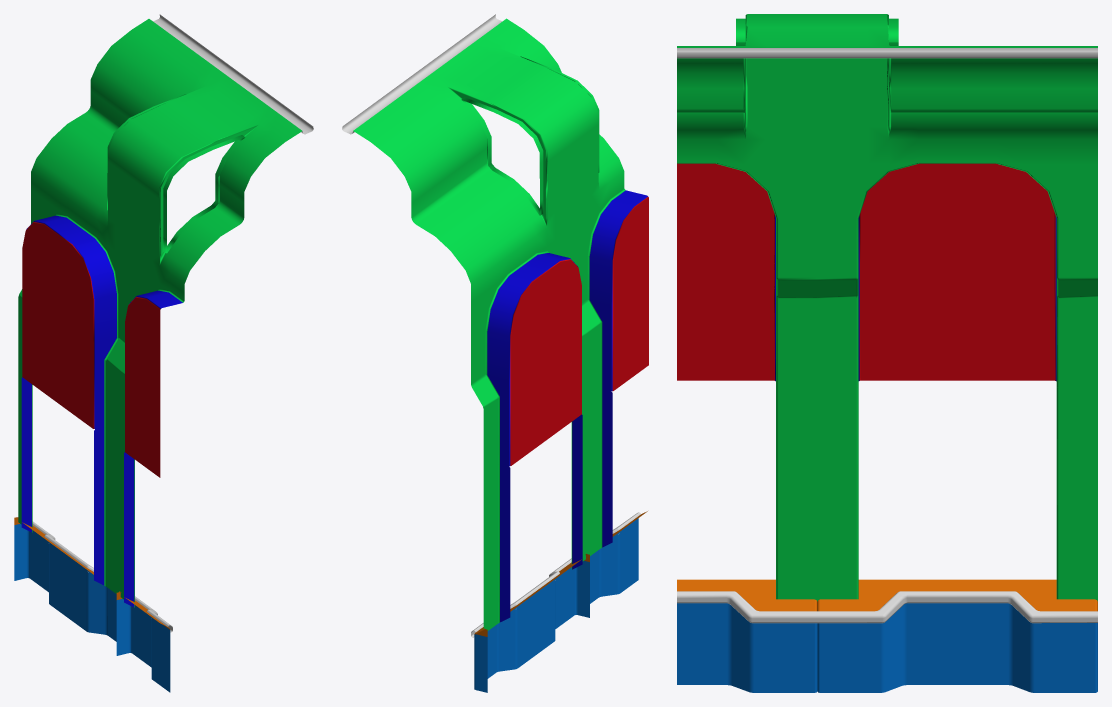
File: Train Wall.fbx
The picture shows the model from 3 angles, left to right: view 1: azimuth 30°, elevation 25°; view 2: azimuth 150°, elevation 25°; view 3: azimuth 270°, elevation 25°; orthographic projection. The views are drawn at different scales.
Visible parts, largest first — view 1: Plane.002, Plane.001, Plane.004, Plane.005; view 2: Plane.002, Plane.001, Plane.004, Plane.005; view 3: Plane.002, Plane.001, Plane.005, Plane.004.
Part boxes in pixels (box(x1,y1,x2,y2)): Plane.002: box(18, 19, 301, 607); Plane.001: box(14, 517, 170, 692); Plane.004: box(153, 14, 313, 134); Plane.005: box(32, 521, 172, 632); Plane.002: box(353, 18, 648, 630); Plane.001: box(474, 511, 647, 692); Plane.004: box(342, 14, 502, 134); Plane.005: box(471, 512, 640, 637); Plane.002: box(677, 14, 1097, 601); Plane.001: box(677, 579, 1097, 692); Plane.005: box(677, 591, 1097, 623); Plane.004: box(677, 48, 1097, 58).
Bounding box in the file's own units: 86.53 × 286 × 150.
